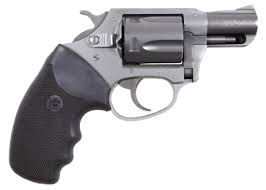gun: (7, 4, 259, 184)
